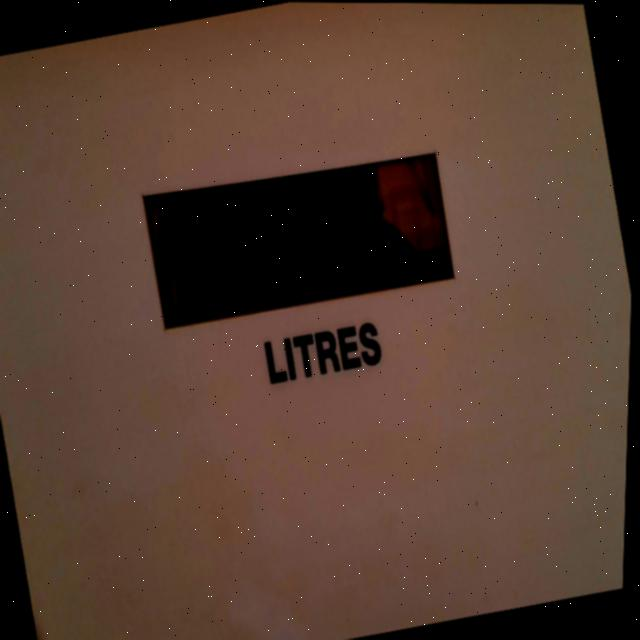.: (342, 274, 355, 292)
0: (381, 178, 436, 284), (339, 191, 389, 290)
1: (265, 207, 300, 307), (313, 193, 346, 294)
2: (196, 210, 254, 320)
